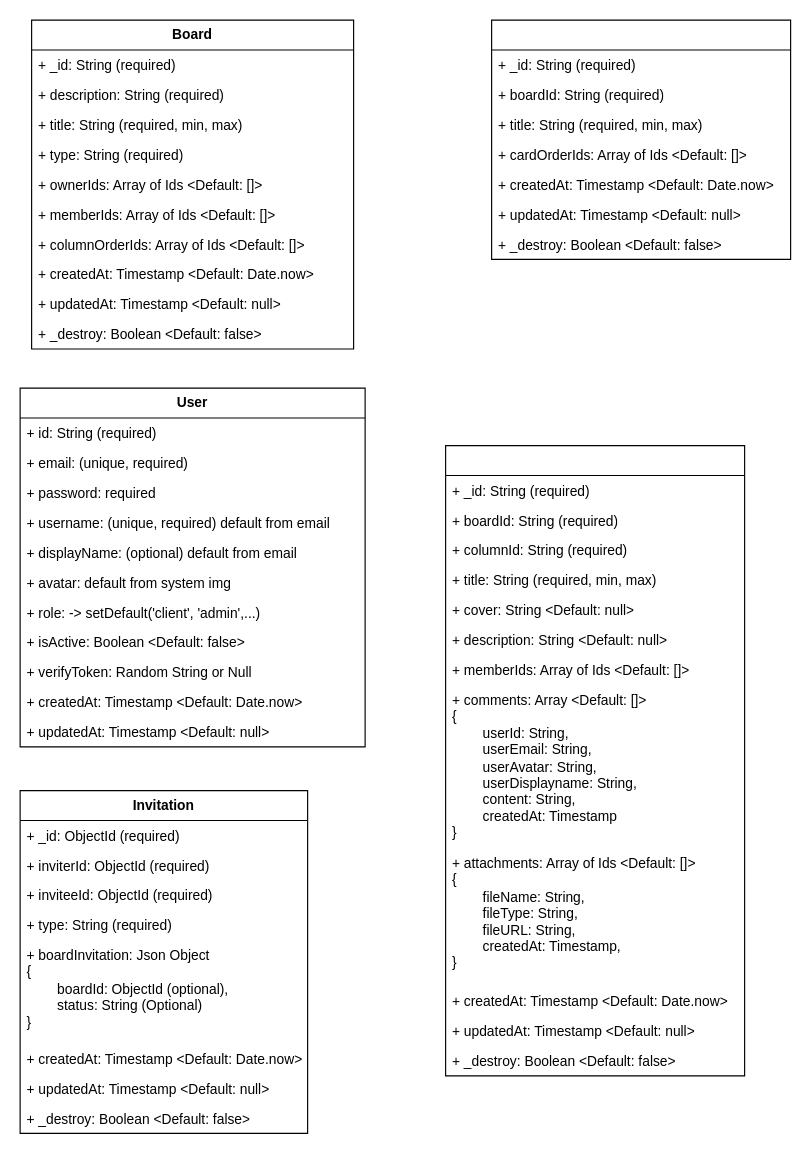
Image size: 811x1157. Some labels were removed from this diagram. The shapes that lost their labels are listed below. From the top down, each one's box as (x1, y1, x2, y2) in pixels, then its label:
(490, 19, 791, 259): Column
(444, 444, 745, 1076): Card
